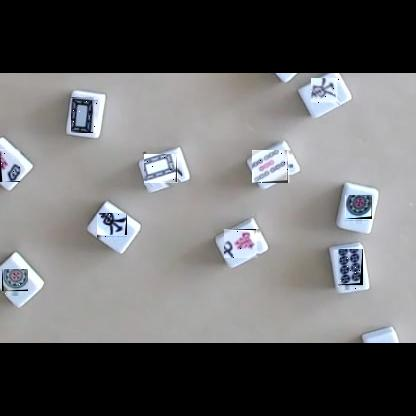1p: (345, 196, 372, 224), (2, 270, 28, 296)
1z: (312, 79, 341, 106), (97, 214, 127, 240)
4m: (0, 149, 20, 182)
5s: (253, 150, 293, 183)
5z: (145, 155, 182, 187), (72, 97, 98, 133)
7m: (225, 229, 261, 258)
8p: (338, 250, 363, 290)
